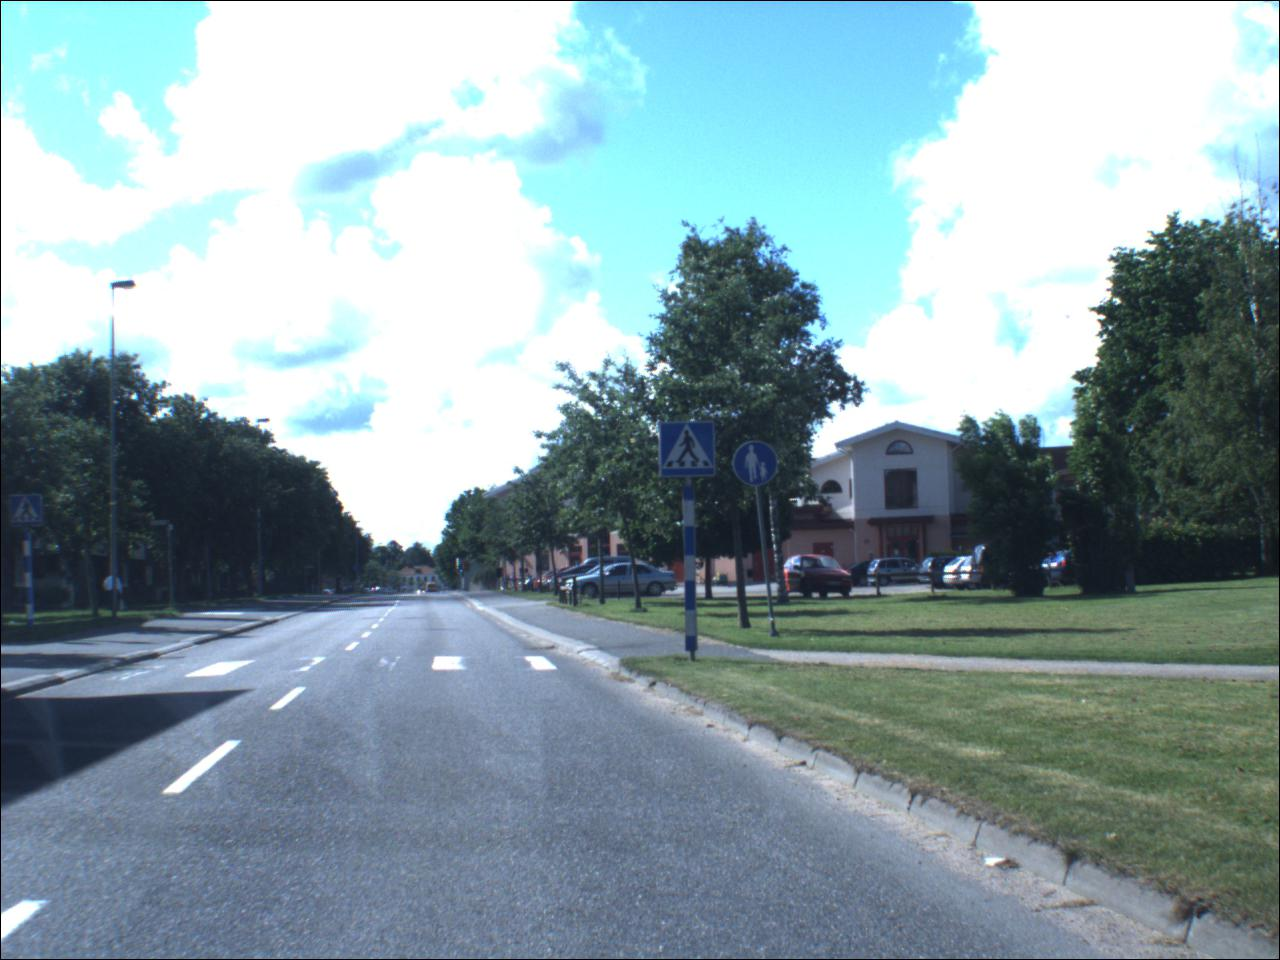PEDESTRIAN_CROSSING: (661, 424, 719, 480), (12, 496, 46, 529)
